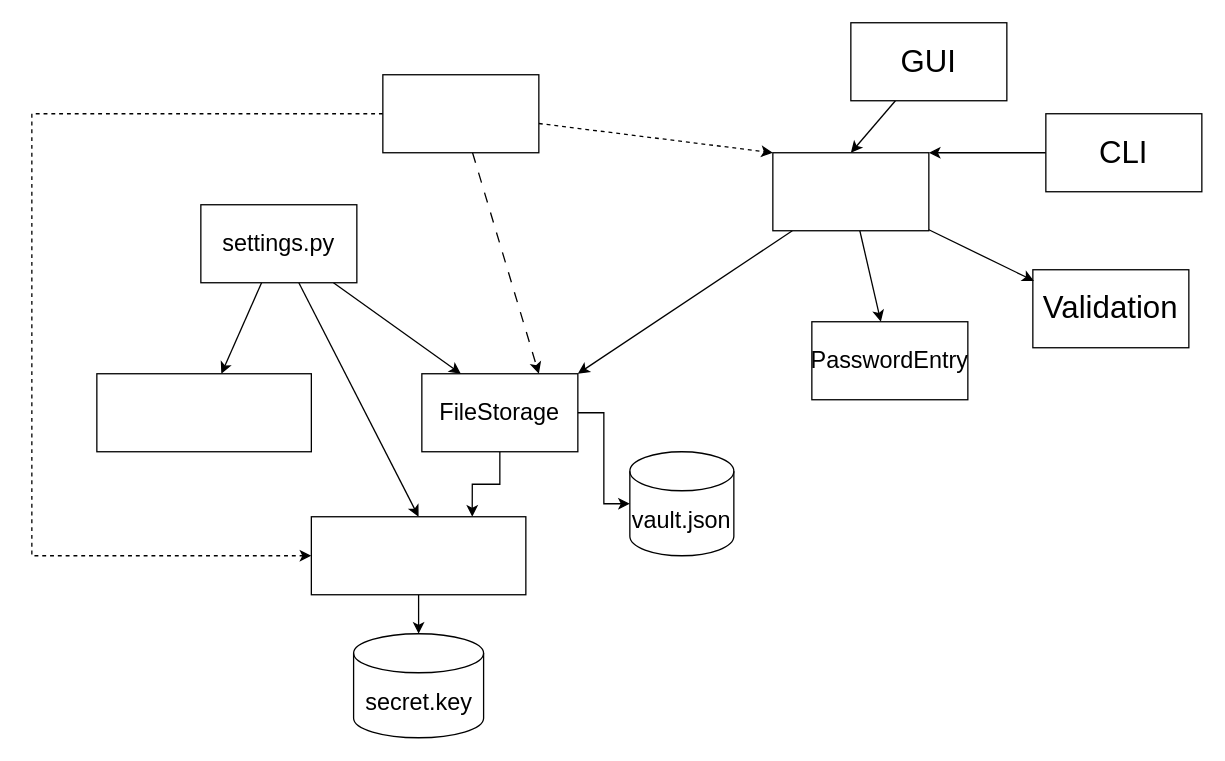
The diagram is 1225 pixels wide and 761 high, and some of its shapes have lost their labels. Here are the shapes that lost their labels. From the top down, the centre of each, then its label:
At pixel 460 113: "Pytest tests".
At pixel 850 191: "VaultService".
At pixel 203 412: "PasswordGenerator".
At pixel 418 555: "EncryptionService".
